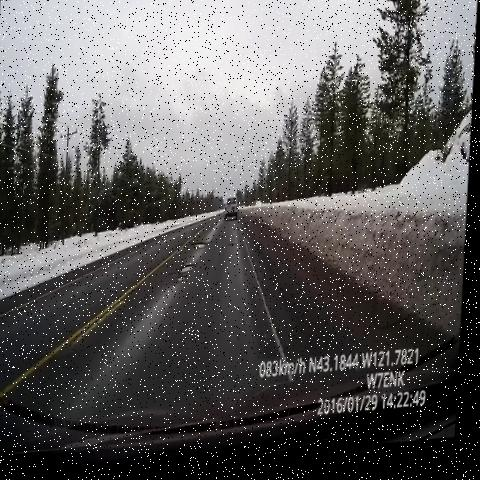pothole: (164, 259, 204, 296), (192, 232, 219, 260), (222, 240, 245, 262)
